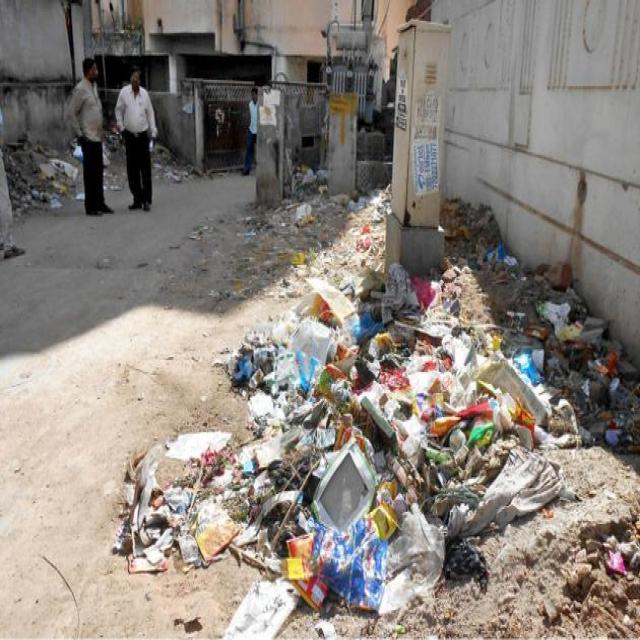garbage: (87, 182, 640, 640)
